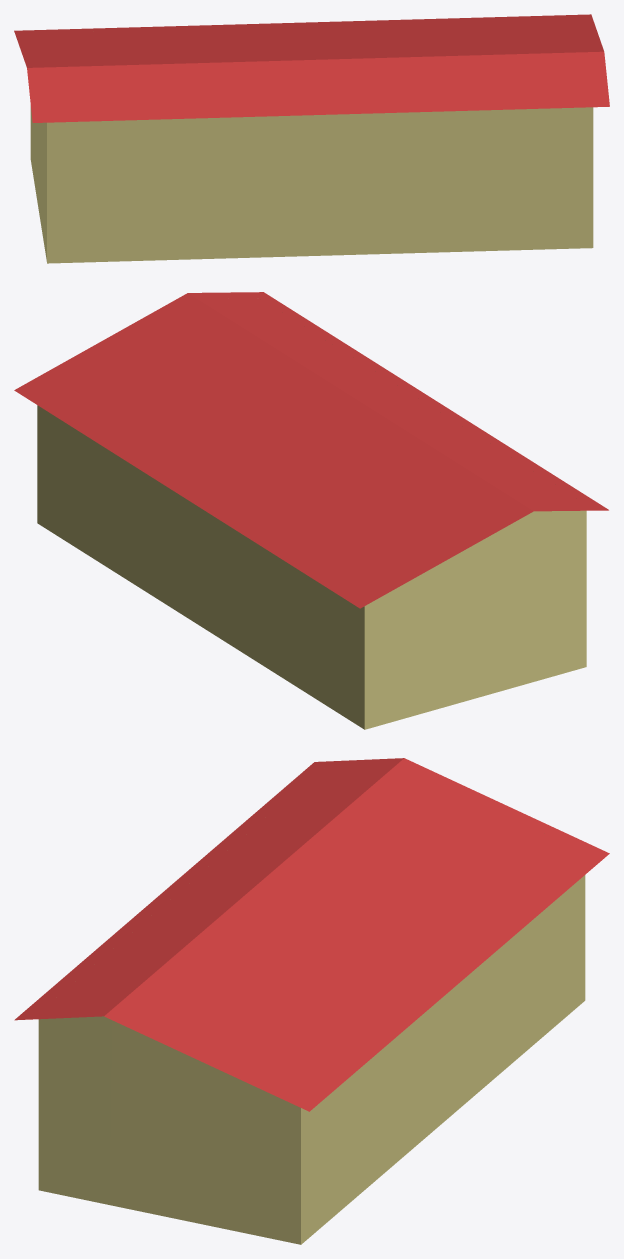
3 views of the same model, one above another, from view 1: azimuth 30°, elevation 25°; view 2: azimuth 150°, elevation 25°; view 3: azimuth 270°, elevation 25° (orthographic). The views are drawn at different scales.
Bounding box in the file's own units: 41.25 × 32.5 × 11.8.
